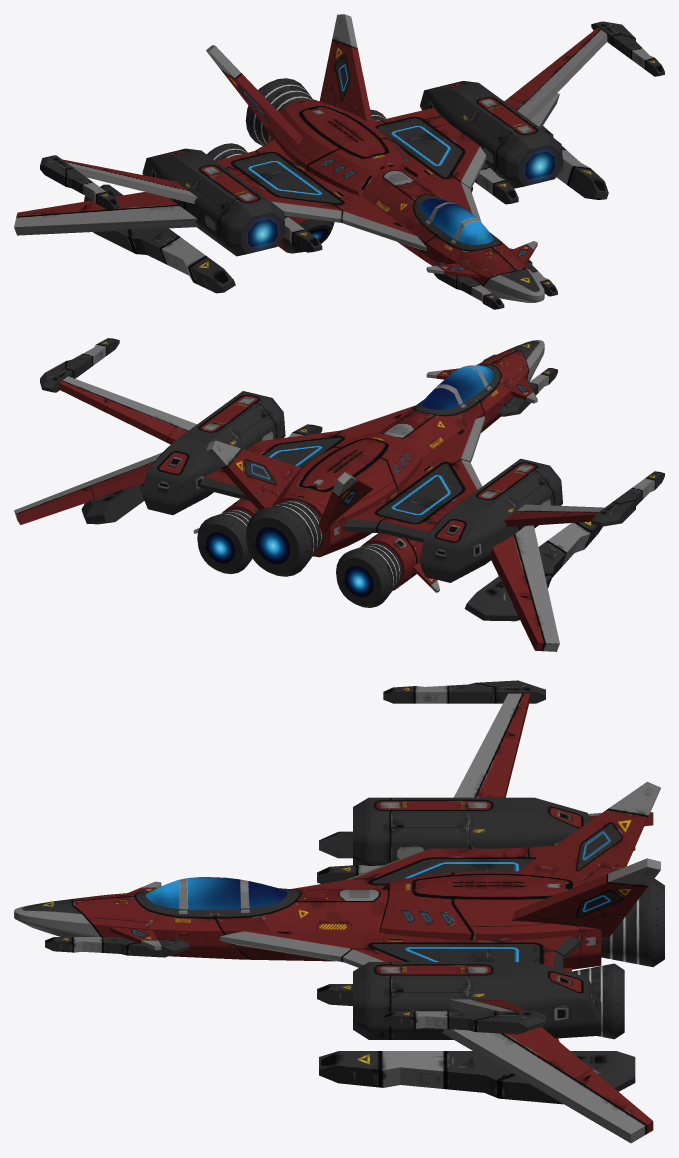
Rendered from StarSparrow-enemy.glb.
The picture shows the model from 3 angles, top to bottom: view 1: azimuth 30°, elevation 25°; view 2: azimuth 150°, elevation 25°; view 3: azimuth 270°, elevation 25°; orthographic projection. The views are drawn at different scales.
Parts seen in each view (by area): view 1: BP_StarSparrow01; view 2: BP_StarSparrow01; view 3: BP_StarSparrow01.
Part boxes in pixels (x1=…): BP_StarSparrow01: x1=14, y1=14, x2=664, y2=309; BP_StarSparrow01: x1=14, y1=338, x2=664, y2=651; BP_StarSparrow01: x1=14, y1=680, x2=664, y2=1143.
Size of the model in its own units: 13.48 by 3.2 by 10.8.
Materials: 1 (1 with a texture image).
